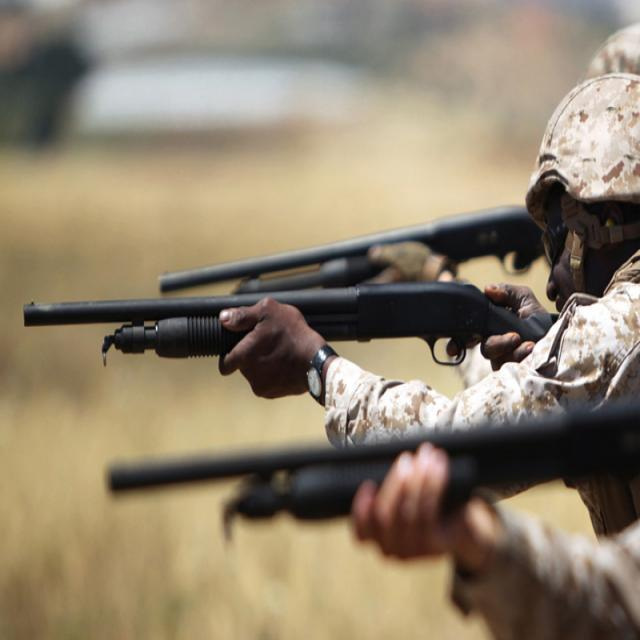shotgun: (76, 432, 634, 626), (8, 271, 584, 425)
